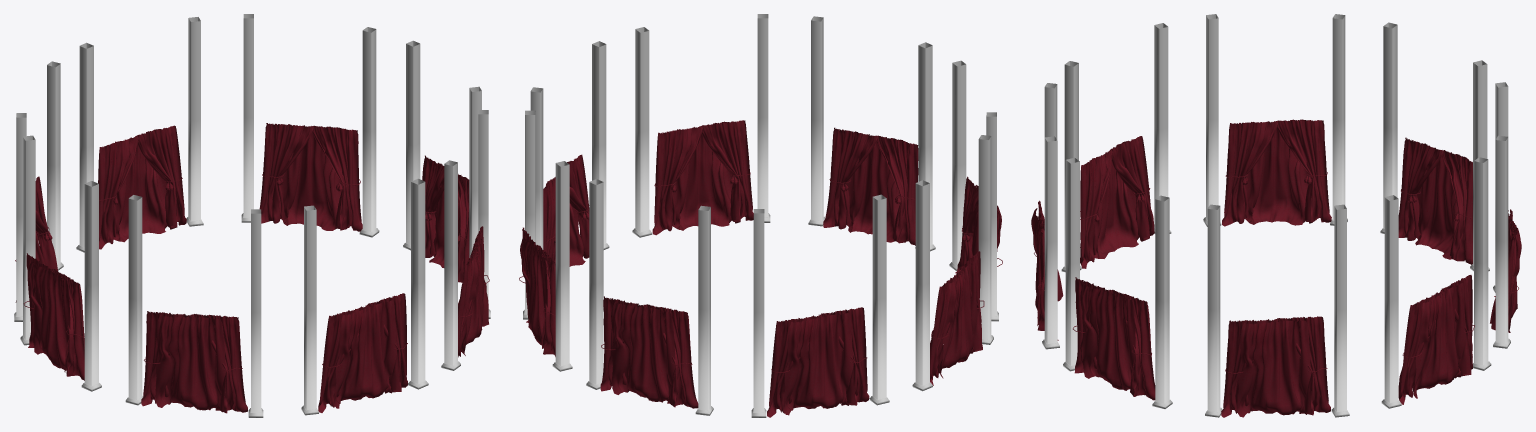
File: Curtains_and_Pillars.obj
3 views of the same model, side by side, from view 1: azimuth 30°, elevation 25°; view 2: azimuth 150°, elevation 25°; view 3: azimuth 270°, elevation 25° (orthographic).
Visible parts, largest first — view 1: Curtain_Collection_One.003, Curtain_Collection_One.007, Curtain_Collection_One.006, Curtain_Collection_One.002, Curtain_Collection_One, Curtain_Collection_One.004, Curtain_Collection_One.005, Curtain_Collection_One.001; view 2: Curtain_Collection_One.005, Curtain_Collection_One.001, Curtain_Collection_One.002, Curtain_Collection_One.006, Curtain_Collection_One, Curtain_Collection_One.003, Curtain_Collection_One.004, Curtain_Collection_One.007; view 3: Curtain_Collection_One, Curtain_Collection_One.004, Curtain_Collection_One.005, Curtain_Collection_One.003, Curtain_Collection_One.001, Curtain_Collection_One.007, Curtain_Collection_One.006, Curtain_Collection_One.002.
Boxes of the visible parts, x1=… form: Curtain_Collection_One.003: x1=241, y1=14, x2=379, y2=237; Curtain_Collection_One.007: x1=125, y1=195, x2=263, y2=417; Curtain_Collection_One.006: x1=301, y1=178, x2=428, y2=415; Curtain_Collection_One.002: x1=76, y1=17, x2=203, y2=252; Curtain_Collection_One: x1=20, y1=135, x2=101, y2=391; Curtain_Collection_One.004: x1=403, y1=40, x2=481, y2=282; Curtain_Collection_One.005: x1=441, y1=110, x2=490, y2=370; Curtain_Collection_One.001: x1=14, y1=61, x2=63, y2=321; Curtain_Collection_One.005: x1=632, y1=14, x2=770, y2=237; Curtain_Collection_One.001: x1=751, y1=194, x2=889, y2=417; Curtain_Collection_One.002: x1=586, y1=179, x2=713, y2=415; Curtain_Collection_One.006: x1=808, y1=16, x2=935, y2=251; Curtain_Collection_One: x1=912, y1=135, x2=993, y2=391; Curtain_Collection_One.003: x1=519, y1=110, x2=572, y2=371; Curtain_Collection_One.004: x1=530, y1=41, x2=609, y2=266; Curtain_Collection_One.007: x1=949, y1=60, x2=1002, y2=321; Curtain_Collection_One: x1=1203, y1=14, x2=1347, y2=226; Curtain_Collection_One.004: x1=1205, y1=204, x2=1349, y2=417; Curtain_Collection_One.005: x1=1063, y1=157, x2=1172, y2=408; Curtain_Collection_One.003: x1=1381, y1=157, x2=1491, y2=408; Curtain_Collection_One.001: x1=1380, y1=22, x2=1489, y2=271; Curtain_Collection_One.007: x1=1061, y1=23, x2=1171, y2=272; Curtain_Collection_One.006: x1=1031, y1=83, x2=1063, y2=349; Curtain_Collection_One.002: x1=1490, y1=82, x2=1521, y2=348.
Bounding box in the file's own units: 19.85 × 9.28 × 19.85.
